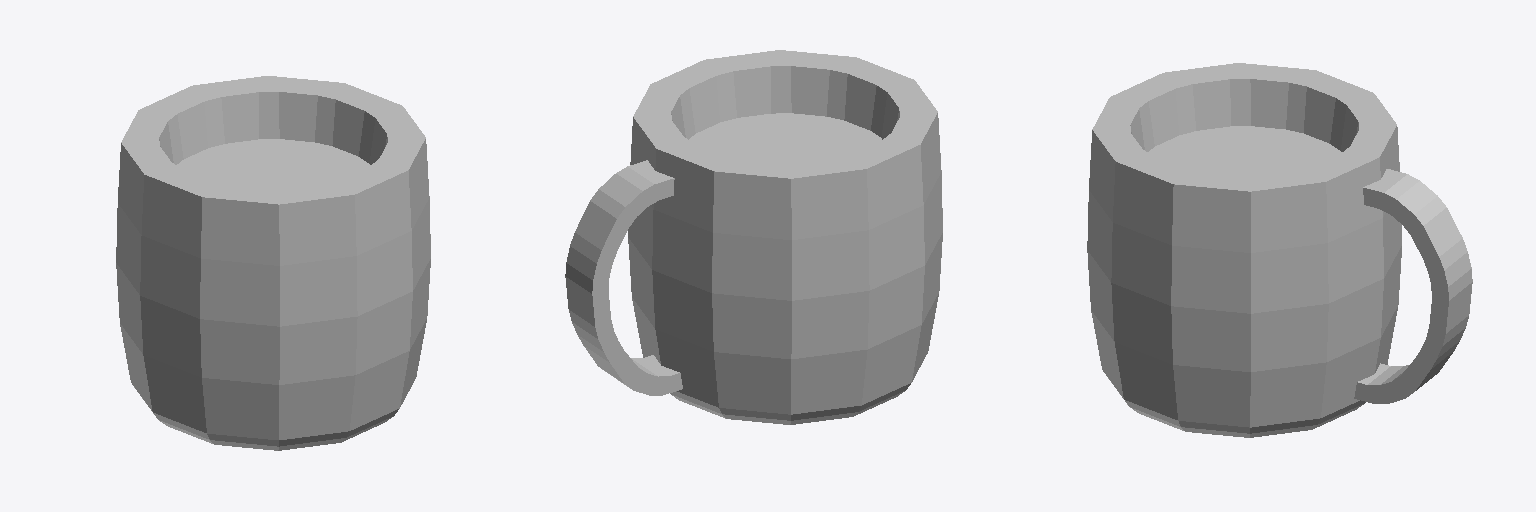
The picture shows the model from 3 angles: view 1: azimuth 30°, elevation 25°; view 2: azimuth 150°, elevation 25°; view 3: azimuth 270°, elevation 25°; orthographic projection.
Parts seen in each view (by area): view 1: Tea_Cylinder; view 2: Tea_Cylinder; view 3: Tea_Cylinder.
Part boxes in pixels (x1,y1,x2,y2): Tea_Cylinder: (116,76,430,450); Tea_Cylinder: (565,50,942,424); Tea_Cylinder: (1087,63,1472,437).
Bounding box in the file's own units: 2 × 1.81 × 2.45.